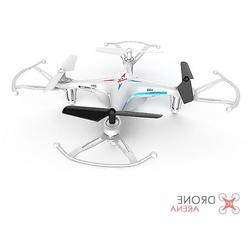drone: (11, 39, 241, 169)
